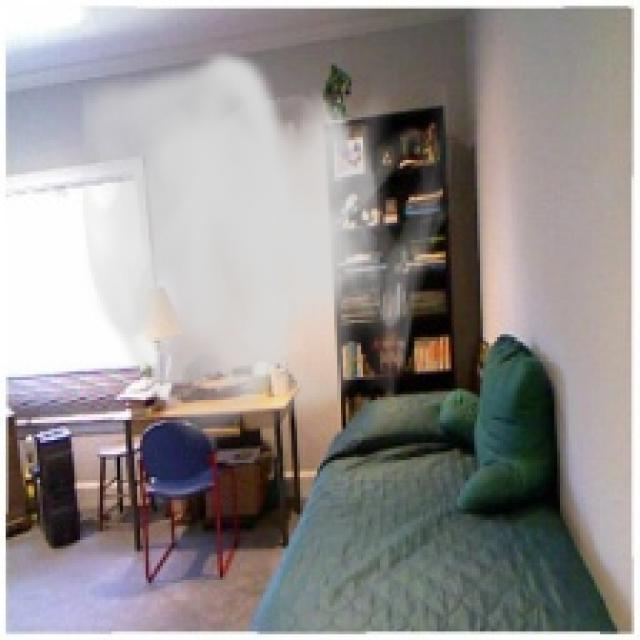Smoke: (69, 49, 458, 452)
